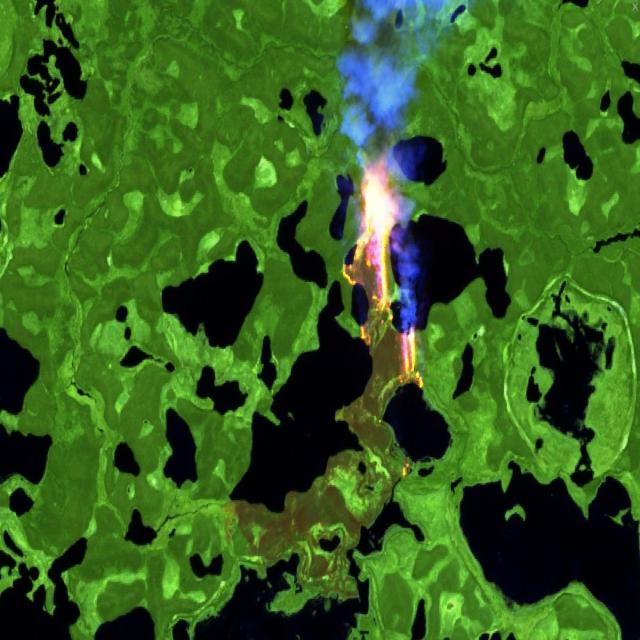fire: (337, 147, 426, 396)
